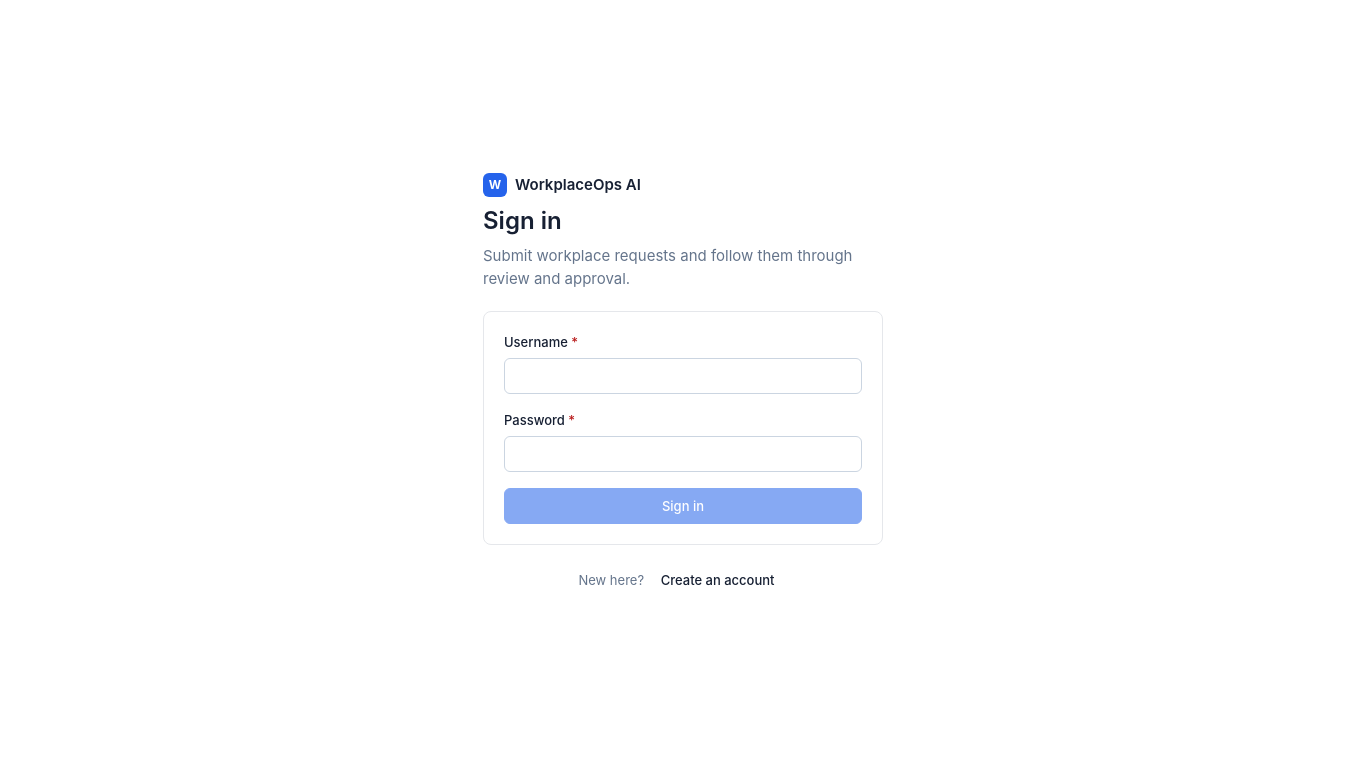
login flow › signs in and lands on the role home page
Type "alice" into the field labelled "Username" at (683,376), box [504,358,862,394]
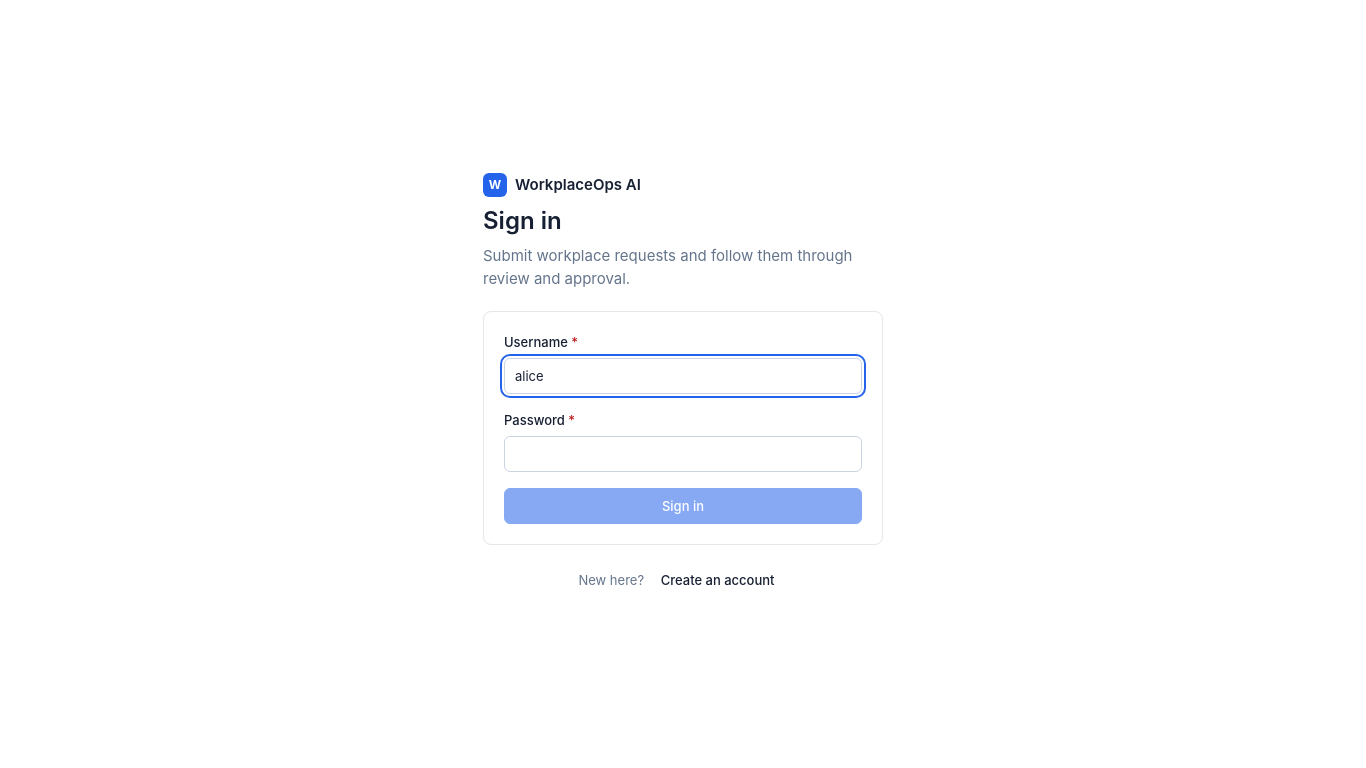
Type "user-pass-123" into the password field labelled "Password" at (683,454), box [504,436,862,472]
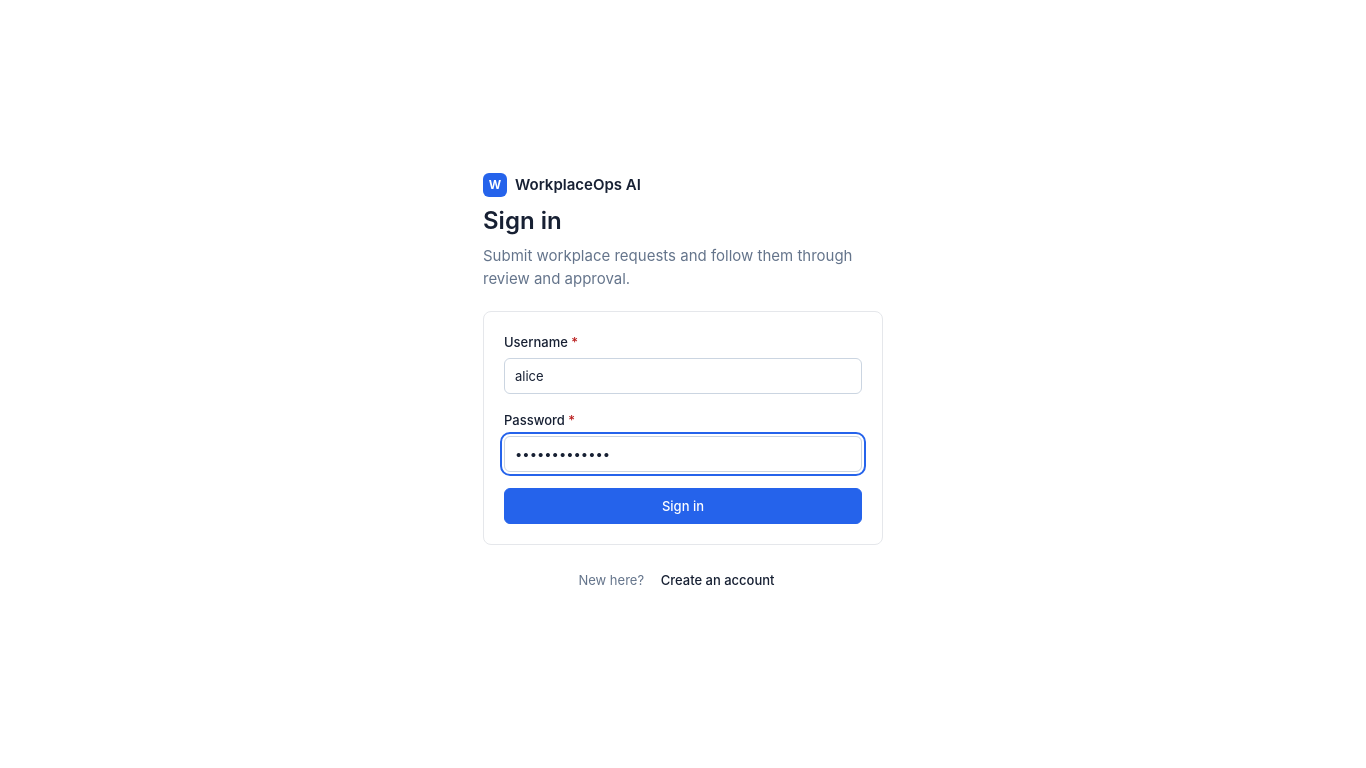
Click the button "Sign in" at (683,506), box [504,488,862,524]
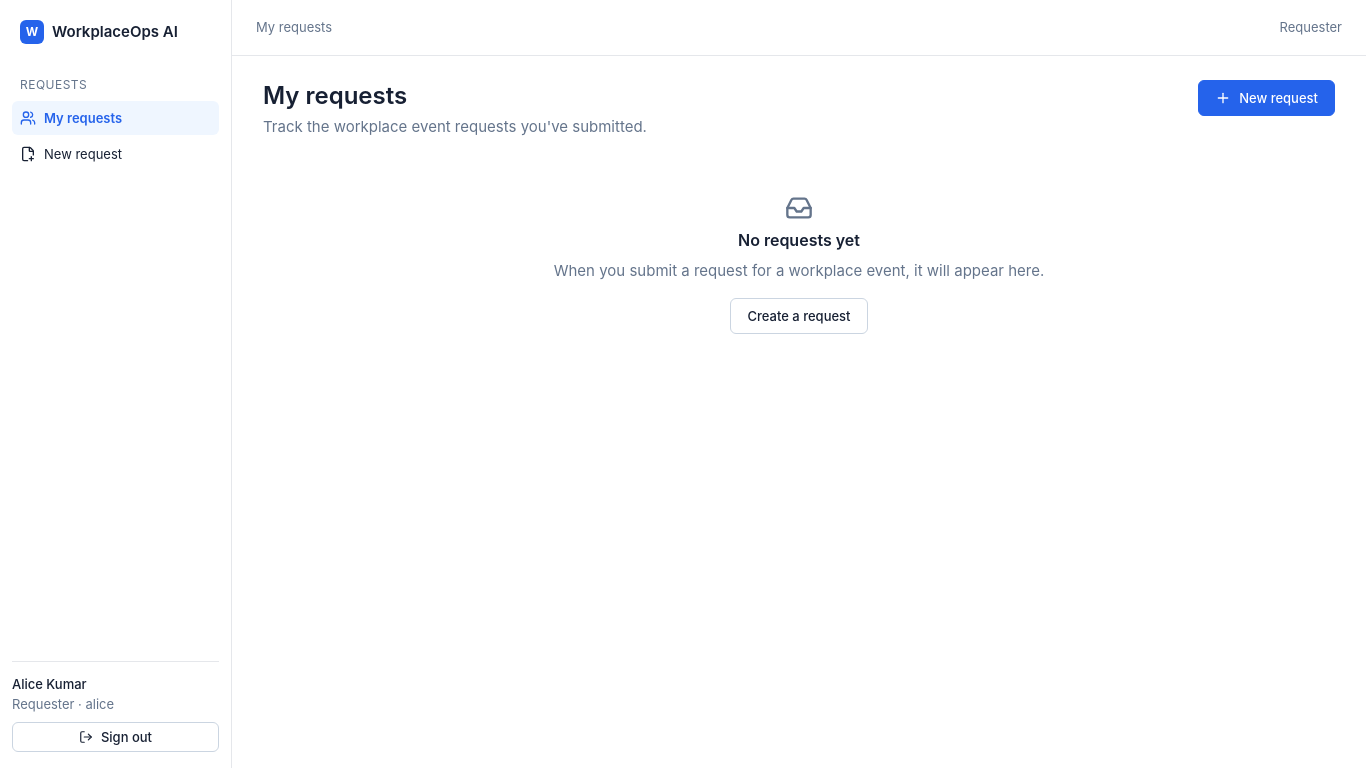
Now the link "My requests" is shown, box [12,101,219,135]
